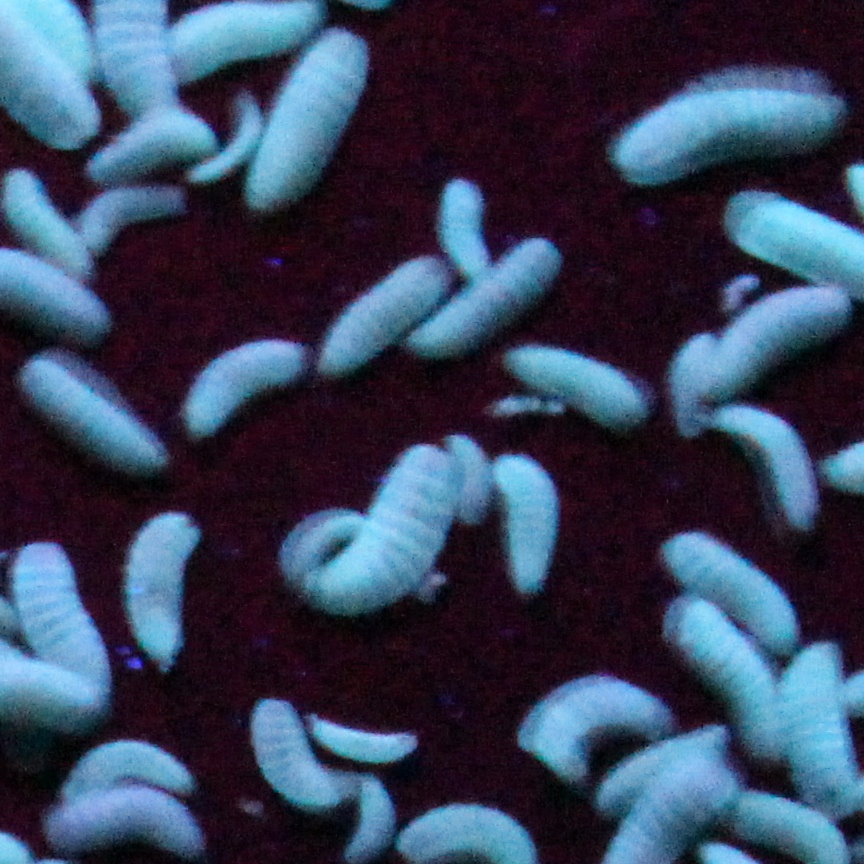larve: (638, 91, 835, 178), (328, 468, 450, 605), (263, 36, 357, 208), (417, 254, 549, 350), (677, 529, 801, 628), (721, 285, 845, 380), (680, 605, 775, 729), (787, 642, 856, 808), (319, 273, 431, 373), (42, 366, 147, 466), (136, 503, 194, 661), (26, 552, 101, 671), (535, 350, 645, 428), (531, 687, 652, 757), (252, 713, 338, 808), (743, 410, 814, 522), (5, 168, 82, 261), (187, 349, 285, 422), (610, 731, 701, 808), (91, 122, 193, 182), (507, 464, 552, 591), (91, 182, 163, 252), (442, 185, 491, 278), (77, 745, 187, 780), (203, 112, 254, 187), (317, 717, 408, 756), (336, 789, 384, 861), (680, 340, 714, 428), (293, 515, 356, 559), (461, 442, 493, 522)
